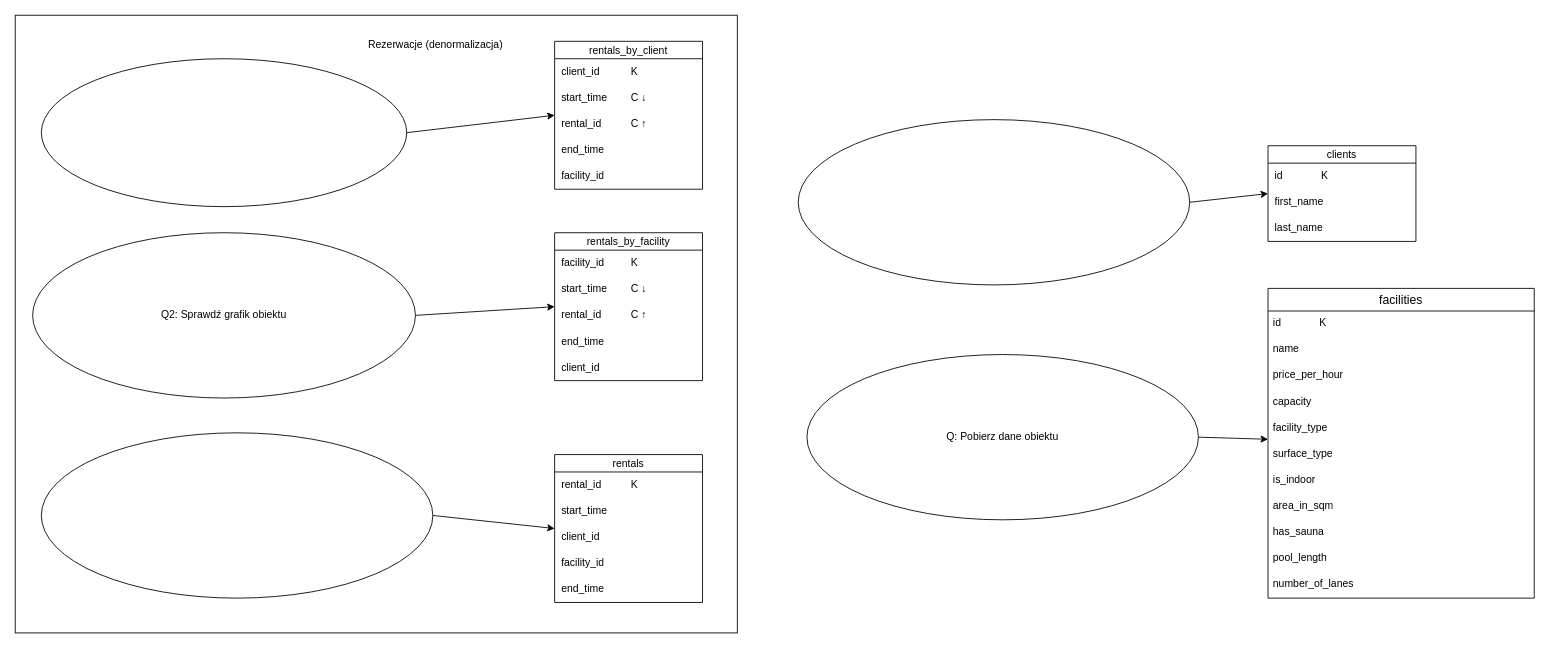
Some shapes in this 1549 by 648 pixel diagram are drawn without their labels. Each missing label, with the centre of its shape:
"Q1: Pobierz historię wypożyczeń klienta" belongs at pixel 223 132.
"Q3: Znajdź/Usuń rezerwację po ID" belongs at pixel 236 515.
"Q: Pobierz dane klienta" belongs at pixel 993 202.
